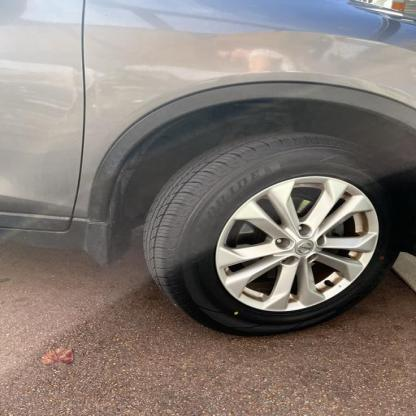Tire: (141, 129, 404, 338)
